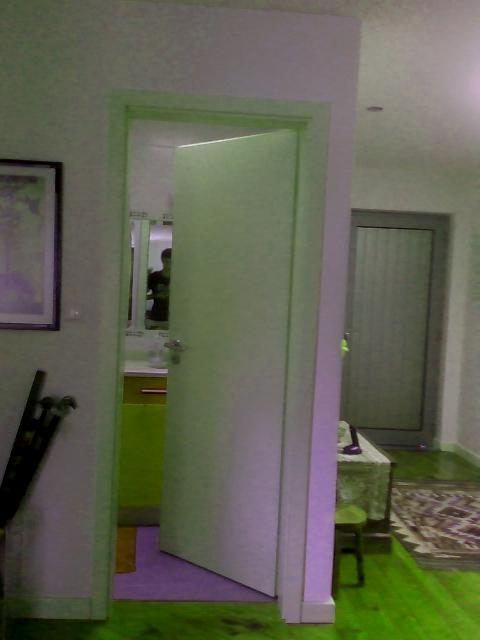semi_door: (92, 85, 332, 630)
